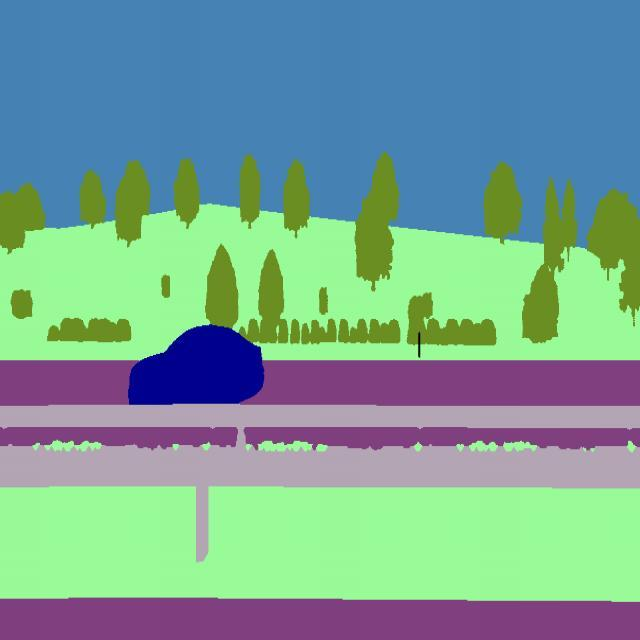safe: (126, 322, 266, 408)
